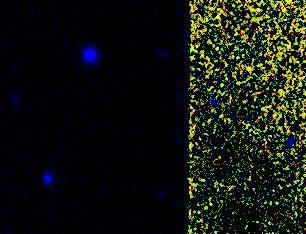star: (236, 55, 266, 85)
